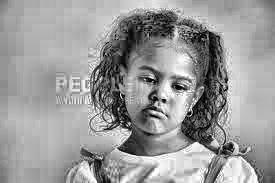sad: (122, 25, 211, 145)
